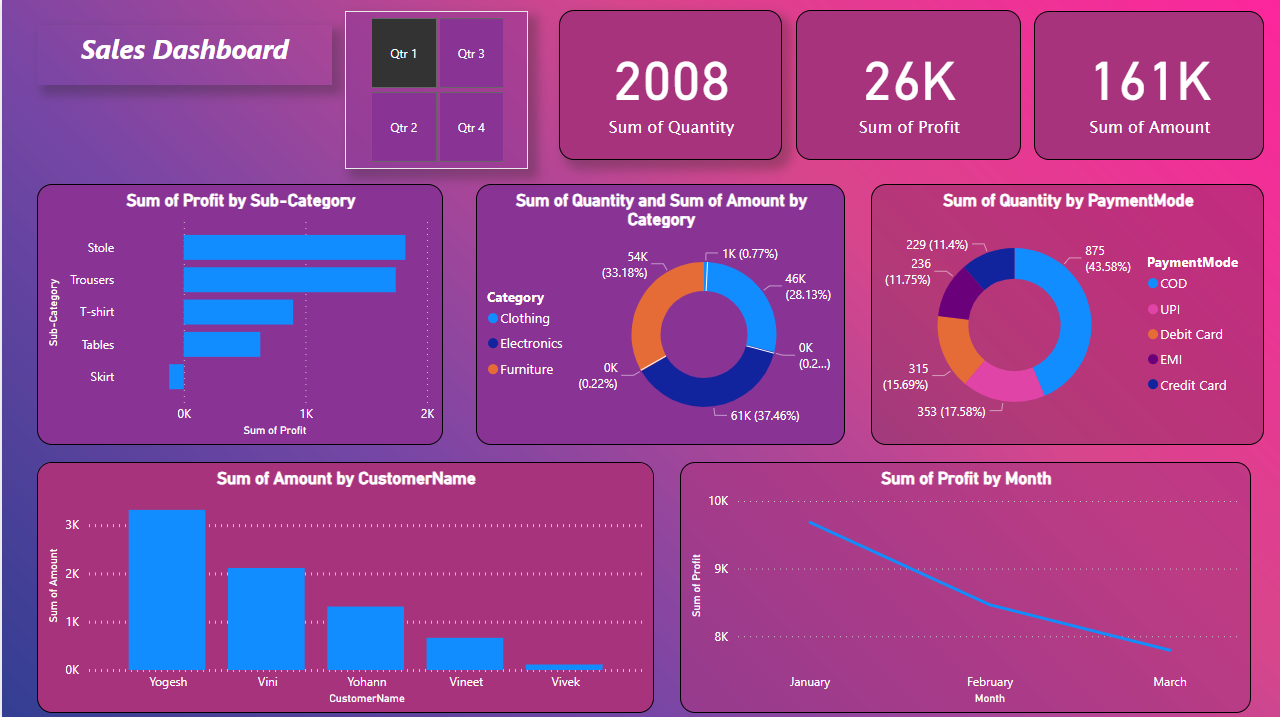

The dashboard page shown, as its layout file describes it:
{"tool":"powerbi","page":{"name":"Page 1","canvas":[1280,720],"ordinal":0},"visuals":[{"type":"barChart","fields":{"Category":["Details.Sub-Category"],"Y":["Details.Profit"]},"box":[35,183.8,405.6,261.6],"z":0},{"type":"donutChart","fields":{"Category":["Details.PaymentMode"],"Y":["Details.Quantity"]},"box":[868.6,183.8,393.9,261.6],"z":1000},{"type":"donutChart","fields":{"Y":["Details.Quantity","Details.Amount"],"Category":["Details.Category"]},"box":[473.7,183.8,369.6,261.6],"z":2000},{"type":"columnChart","fields":{"Category":["Orders.CustomerName"],"Y":["Details.Amount"]},"box":[35,462,616.7,250.9],"z":3000},{"type":"lineChart","fields":{"Category":["Orders.Order Date.Variation.Date Hierarchy.Month"],"Y":["Details.Profit"]},"box":[677.9,462,570.9,250.9],"z":4000},{"type":"textbox","box":[35,25.3,294.7,59.3],"z":5000},{"type":"card","fields":{"Values":["Details.Quantity"]},"box":[557.3,9.7,222.7,149.8],"z":6000},{"type":"card","fields":{"Values":["Details.Amount"]},"box":[1032,10.7,230.5,149.8],"z":7000},{"type":"card","fields":{"Values":["Details.Profit"]},"box":[793.7,9.7,225.7,149.8],"z":8000},{"type":"slicer","fields":{"Values":["Orders.Order Date.Variation.Date Hierarchy.Quarter"]},"box":[343.3,10.7,182.9,158.5],"z":9000}]}

Visuals, with their boxes in screenshot pixels (x1, y1, x2, y2), scaled from the page's 1280x720 canvas onto the 1280x717 screenshot:
barChart - Details.Sub-Category x Details.Profit: detection(35, 183, 441, 444)
donutChart - Details.PaymentMode x Details.Quantity: detection(869, 183, 1262, 444)
donutChart - Details.Quantity x Details.Amount: detection(474, 183, 843, 444)
columnChart - Orders.CustomerName x Details.Amount: detection(35, 460, 652, 710)
lineChart - Orders.Order Date.Variation.Date Hierarchy.Month x Details.Profit: detection(678, 460, 1249, 710)
textbox: detection(35, 25, 330, 84)
card - Details.Quantity: detection(557, 10, 780, 159)
card - Details.Amount: detection(1032, 11, 1262, 160)
card - Details.Profit: detection(794, 10, 1019, 159)
slicer - Orders.Order Date.Variation.Date Hierarchy.Quarter: detection(343, 11, 526, 168)
